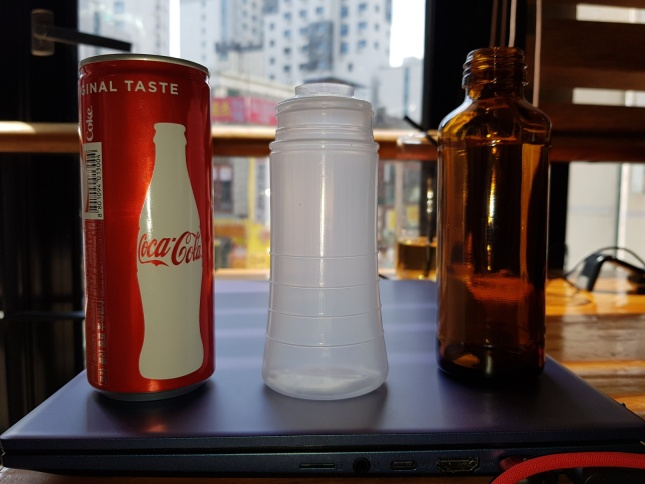Can: (74, 54, 217, 403)
Glass: (431, 44, 553, 395)
Plastic: (258, 75, 392, 407)
